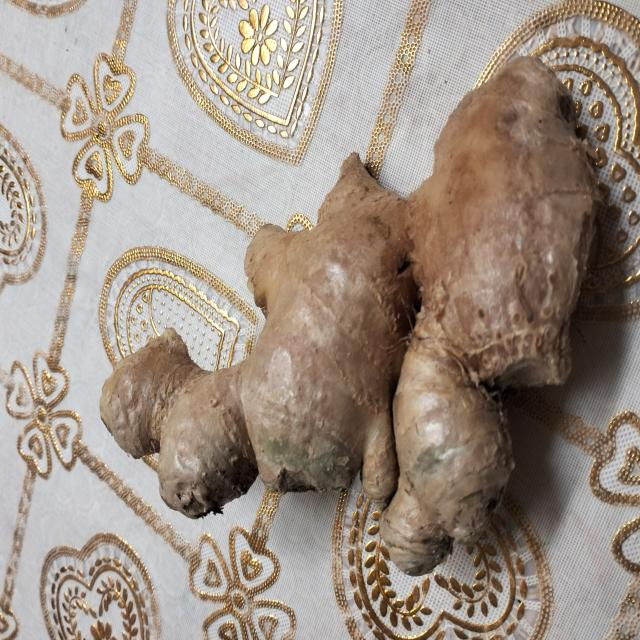ginger: (92, 49, 598, 574)
